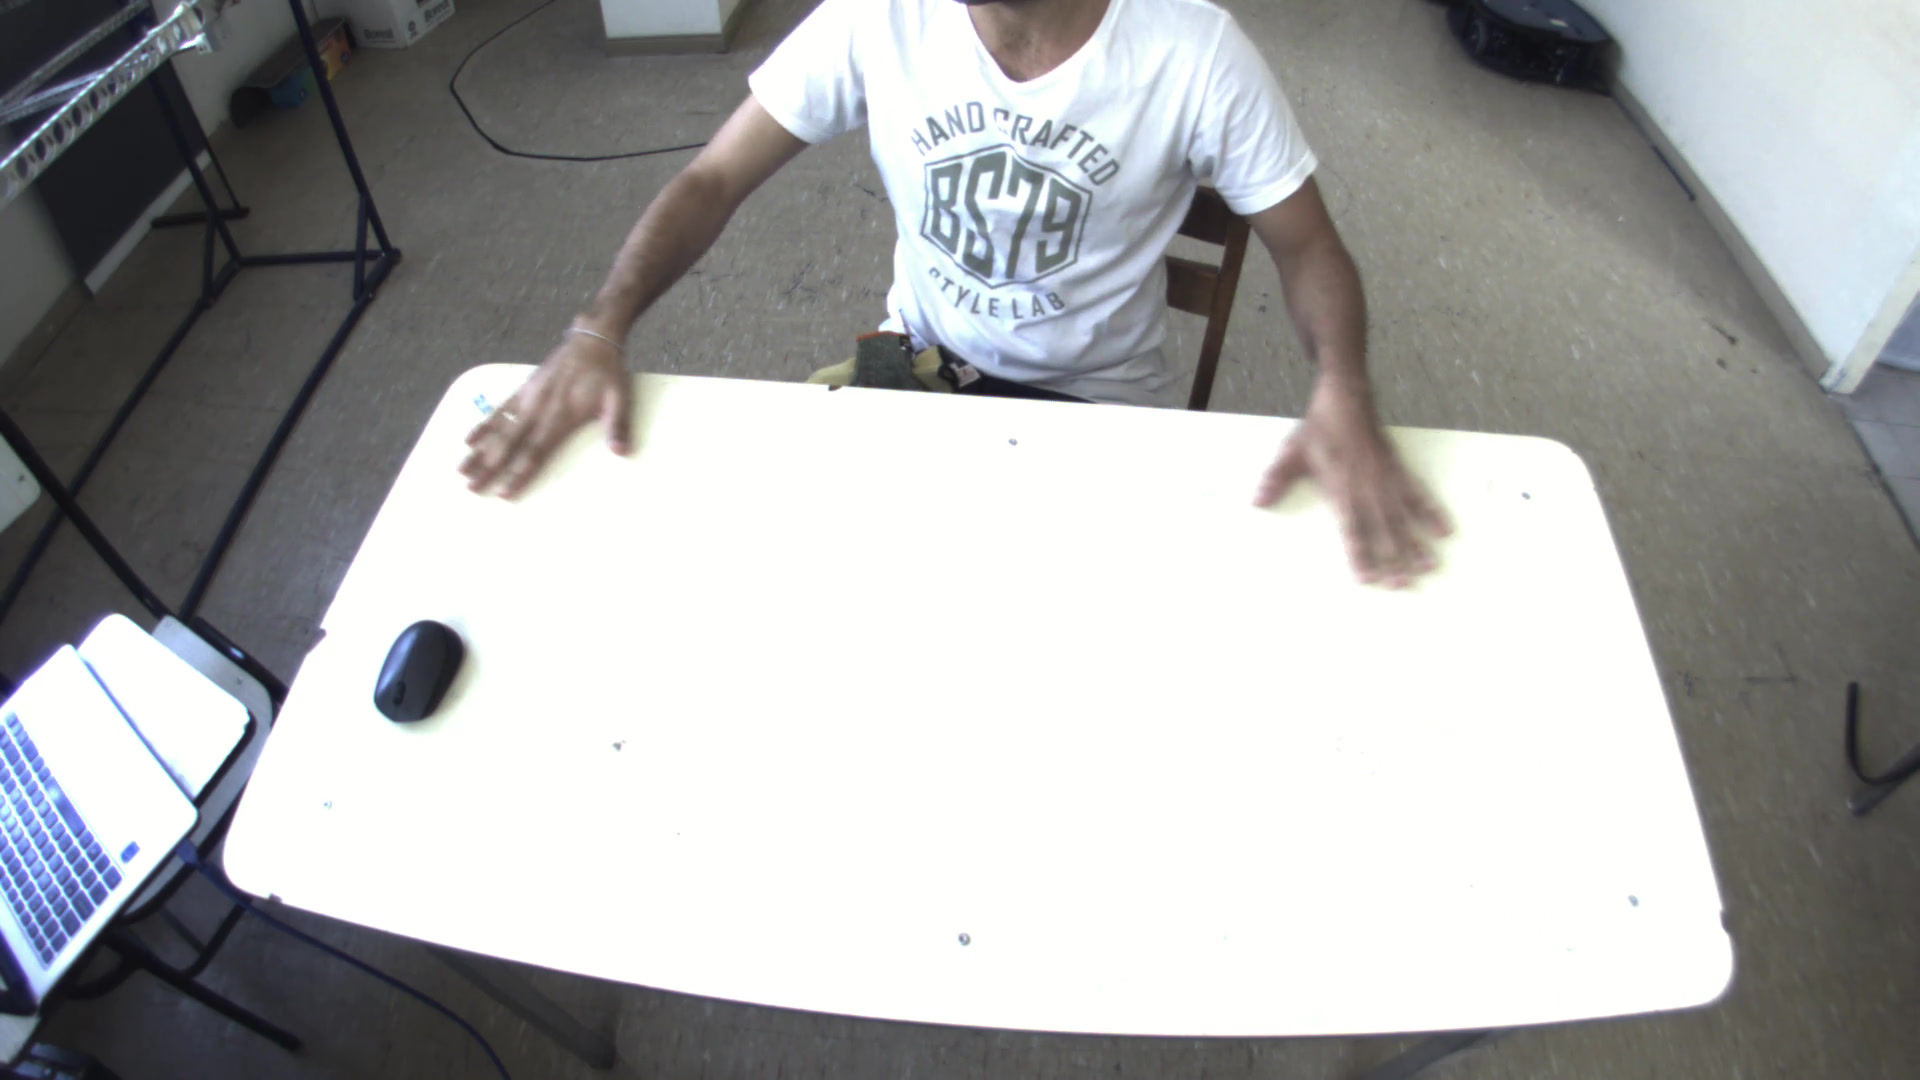hand: (1253, 375, 1465, 599), (443, 315, 640, 505)
